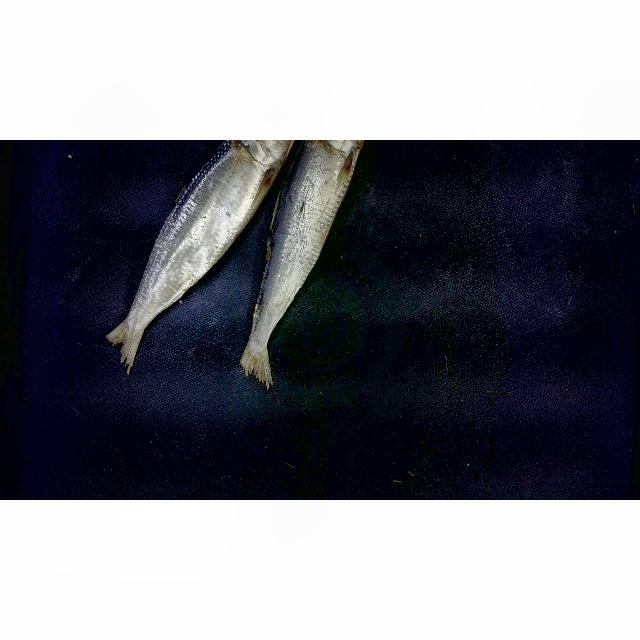Grade_A_Body: (139, 156, 263, 290), (282, 160, 352, 302)
Grade_A_Tail: (89, 253, 221, 392), (232, 258, 327, 397)
